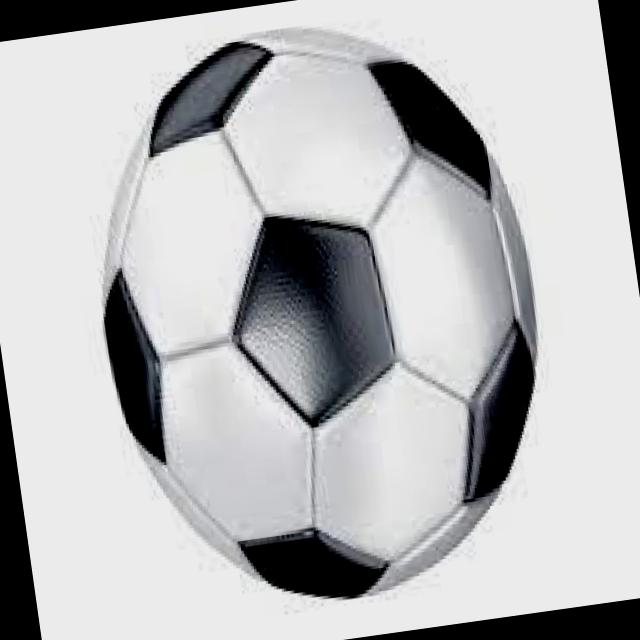Soccer Ball: (62, 0, 575, 628)
